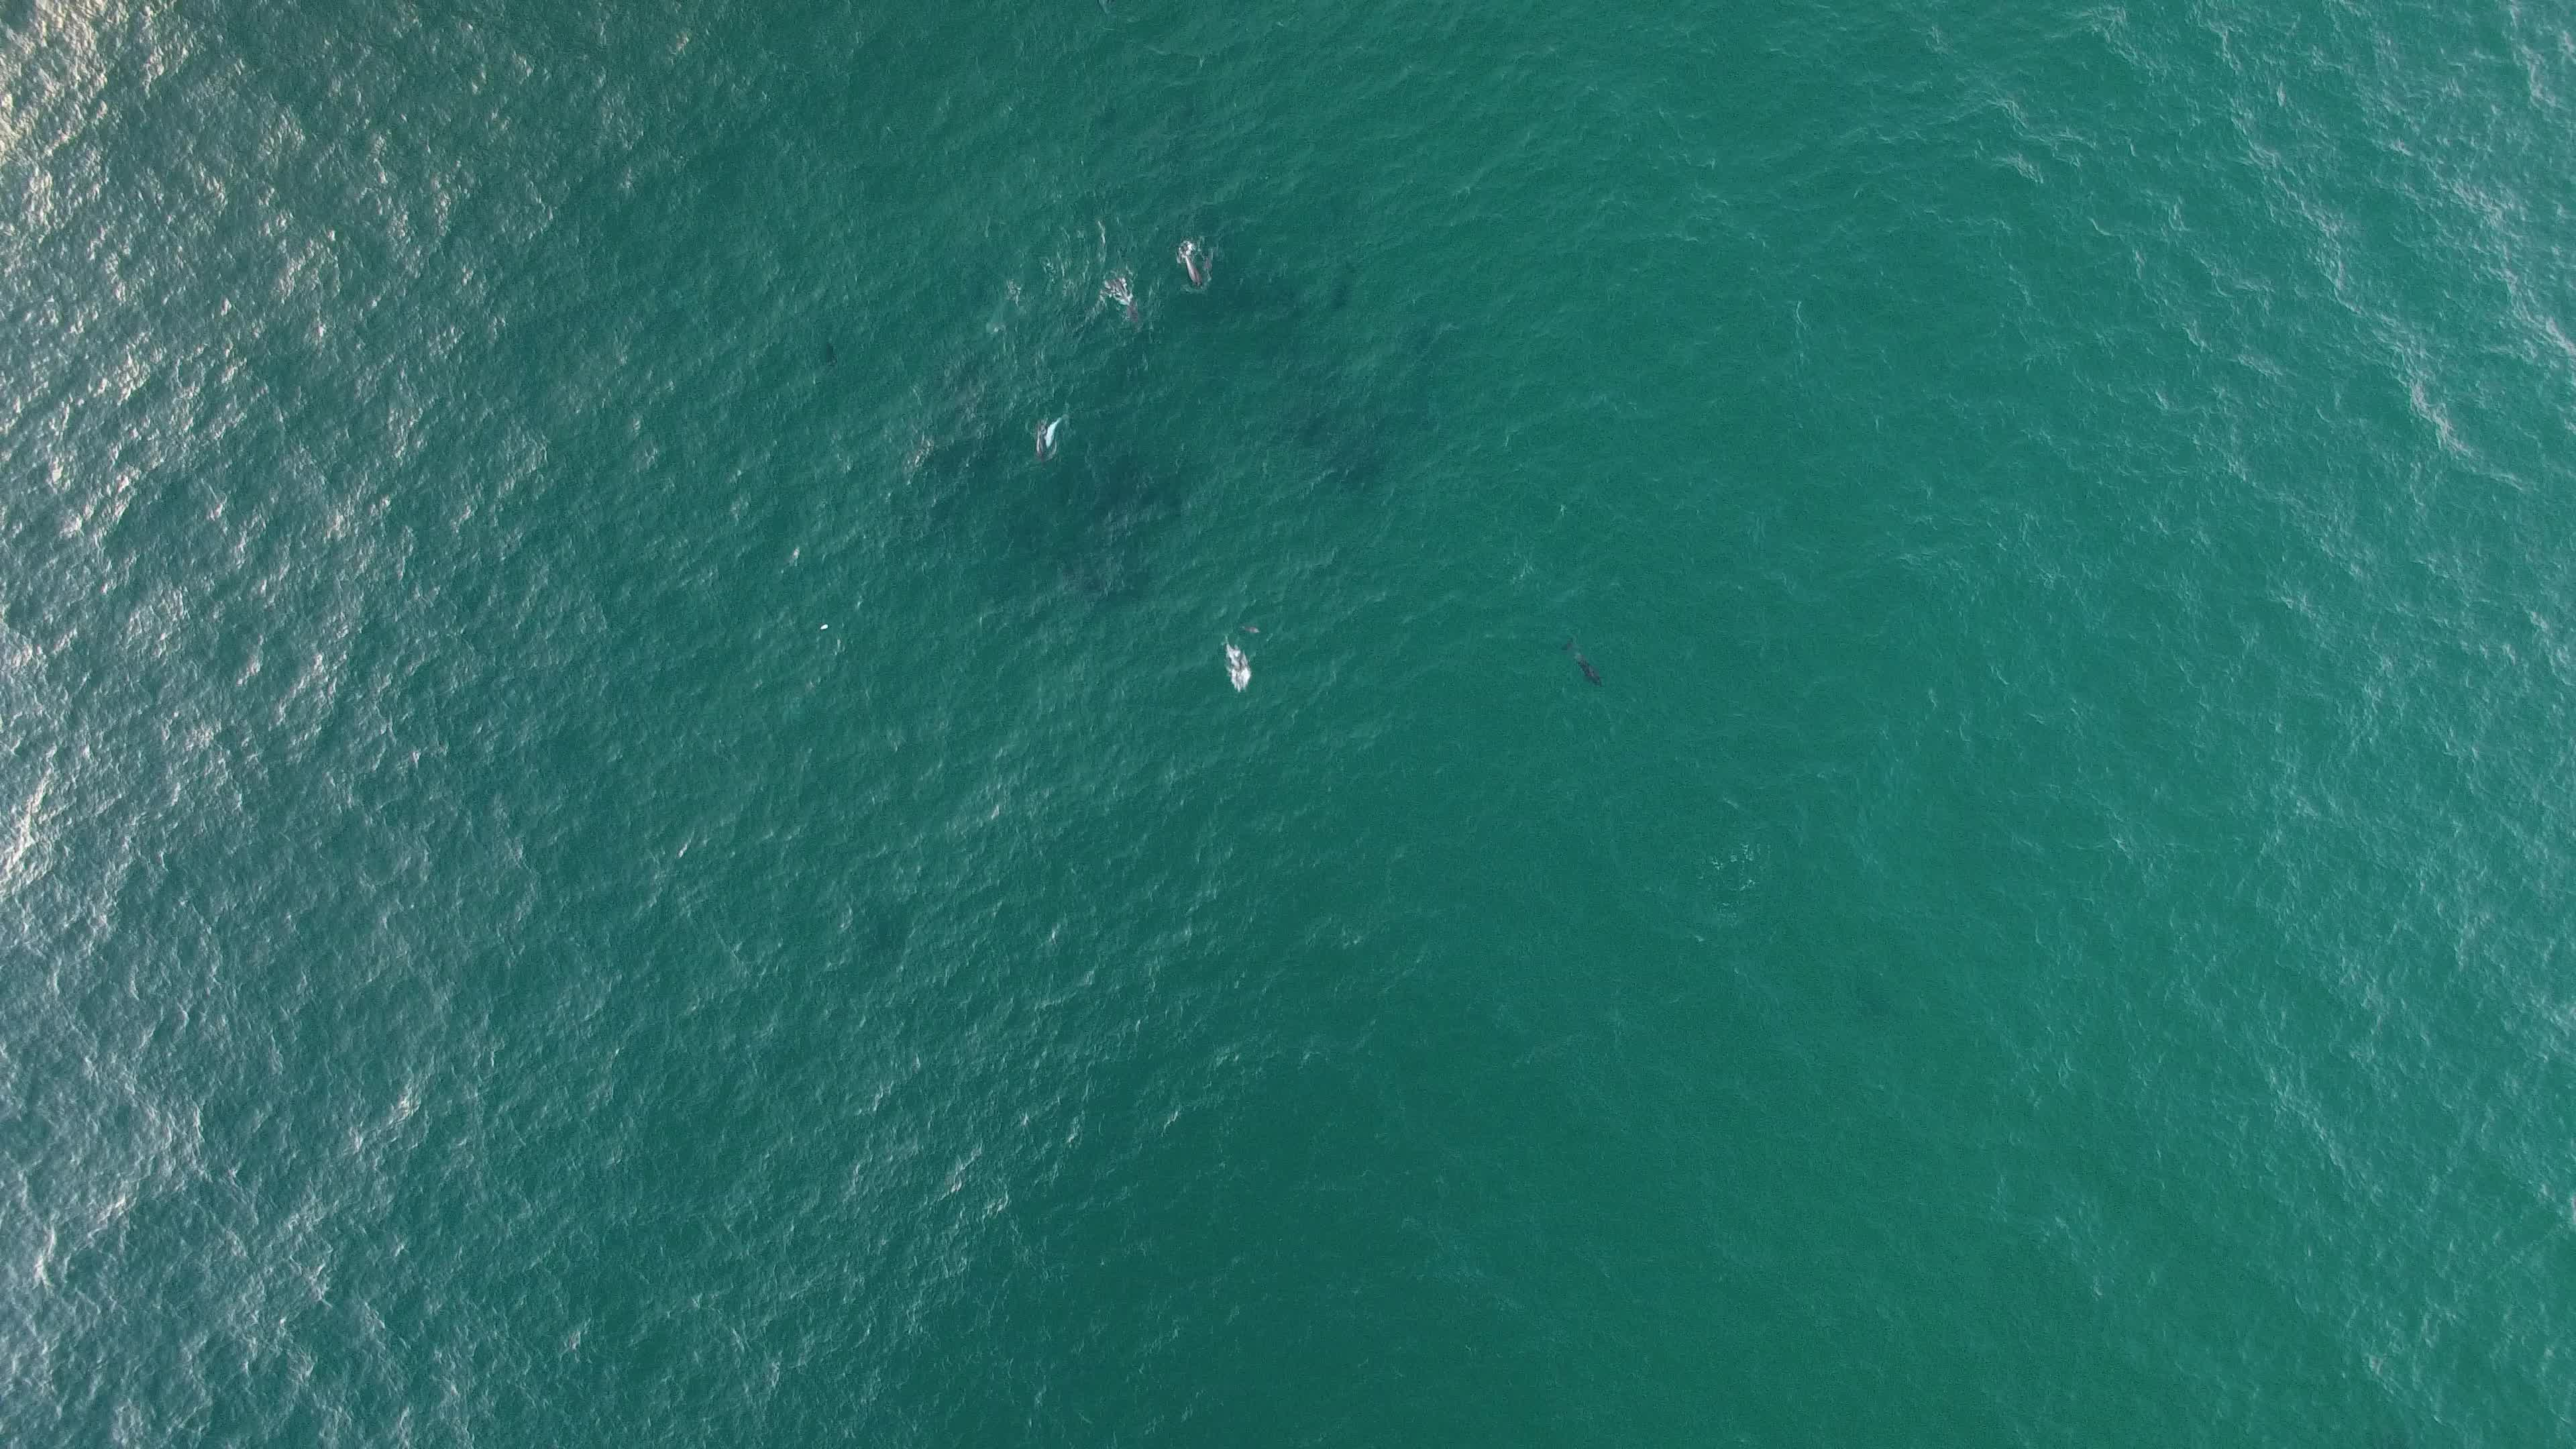dolphin: (1548, 619, 1614, 708), (1215, 625, 1265, 704), (1016, 405, 1074, 471)
